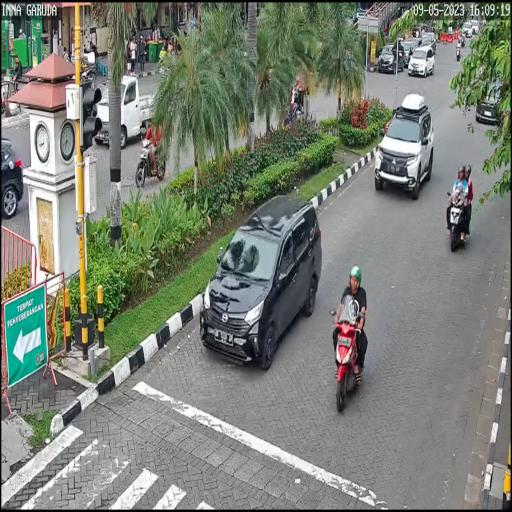mobil: (200, 191, 322, 368), (374, 95, 435, 202)
motor: (330, 294, 370, 418), (446, 180, 473, 252)
